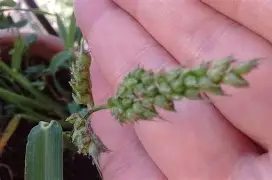weed: (105, 52, 259, 120)
